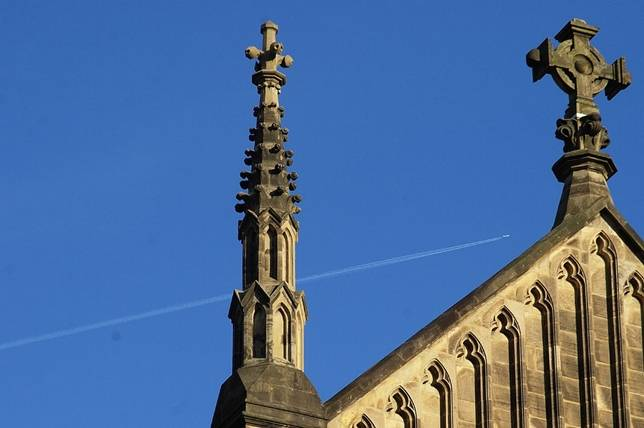pinaculo-gotico: (230, 16, 305, 241)
